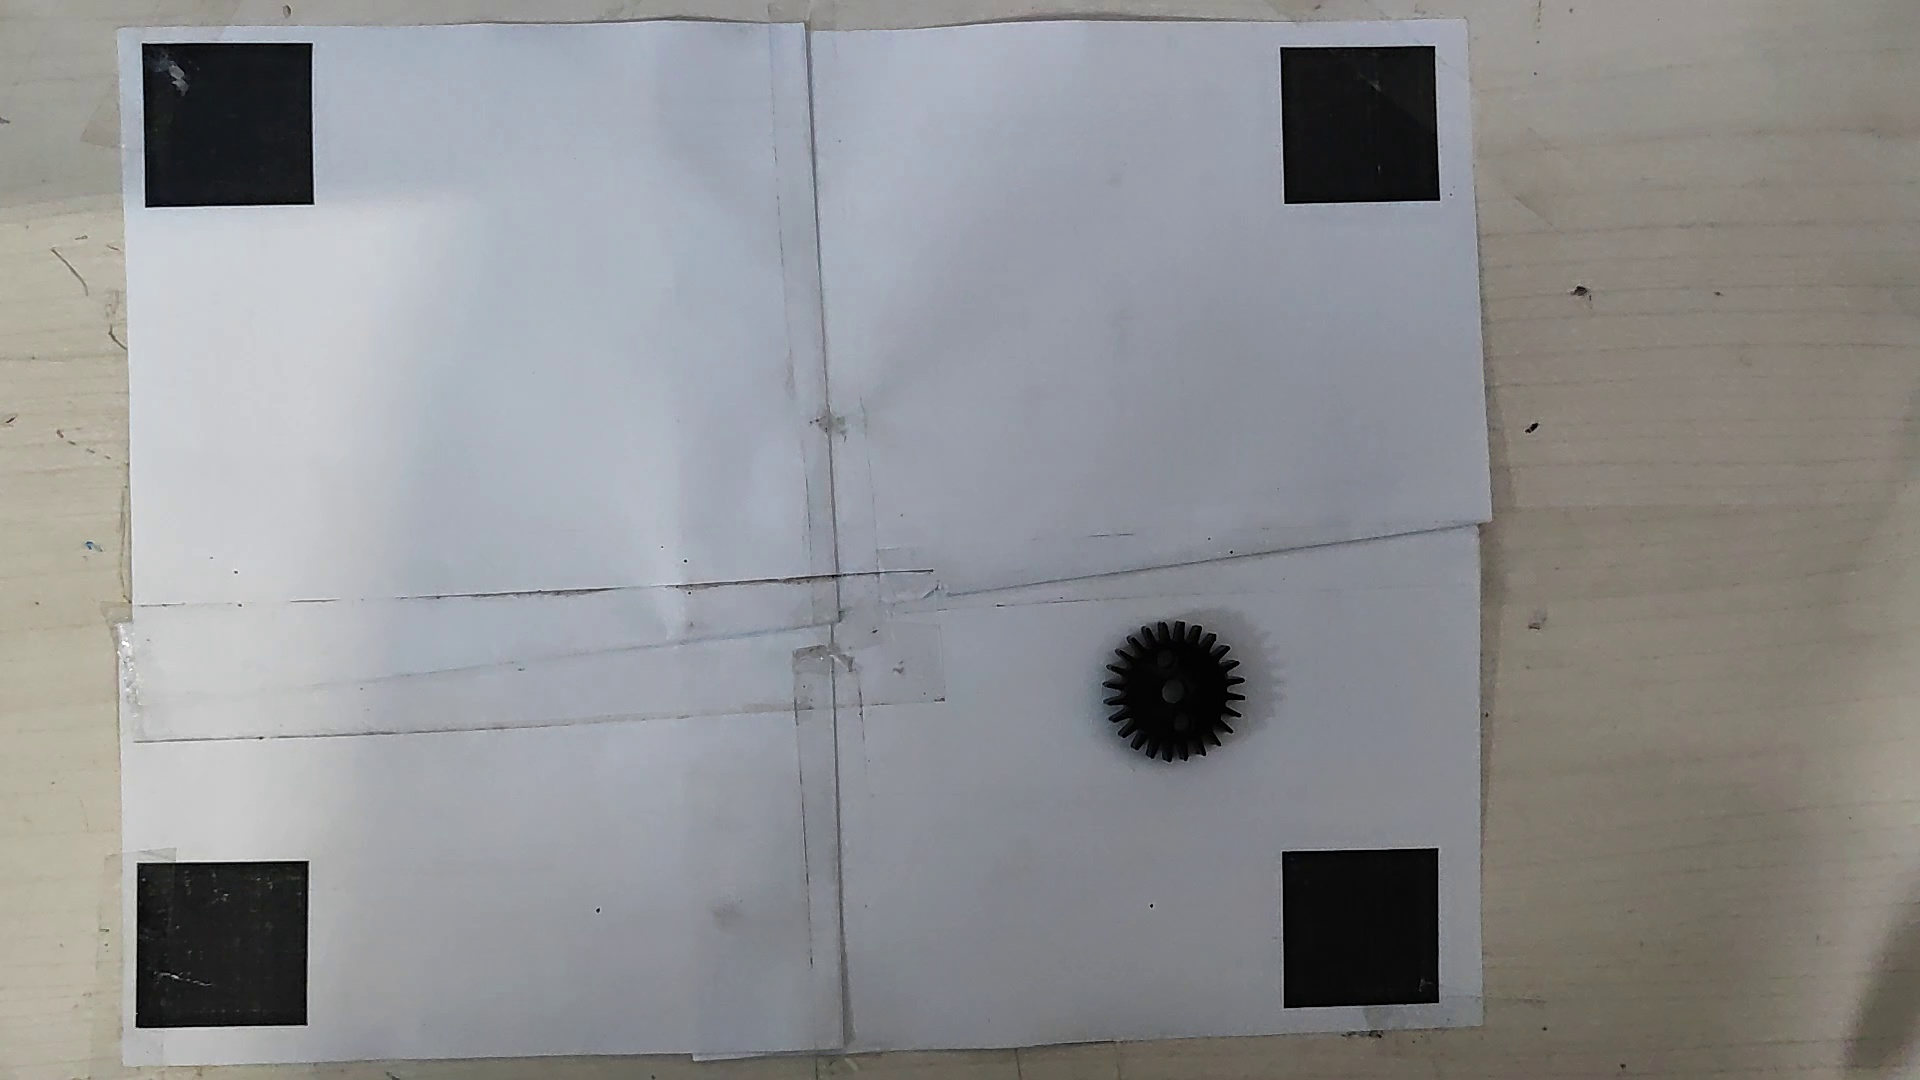Gear: (1098, 615, 1241, 766)
